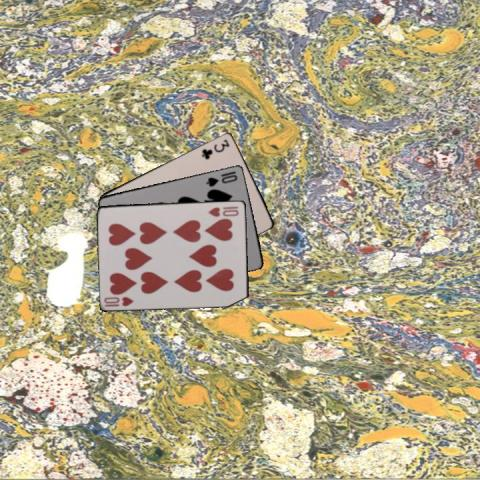10h: (205, 203, 240, 218), (101, 293, 135, 308)
10s: (204, 171, 239, 188)
3c: (198, 136, 230, 161)
